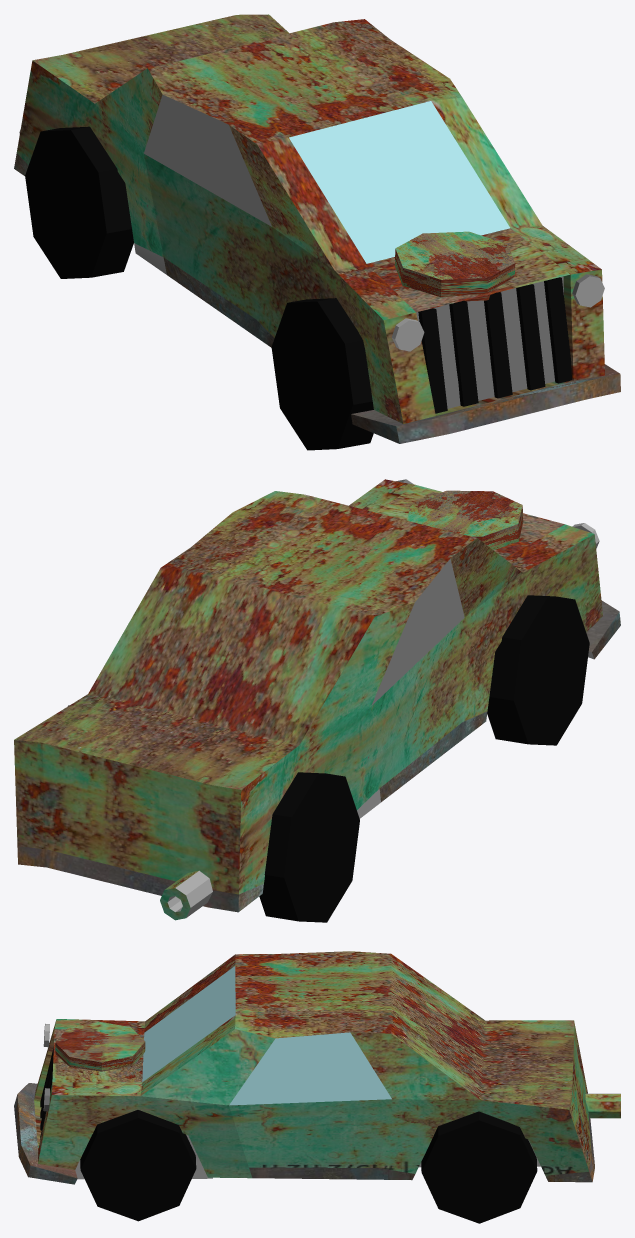
File: Car.fbx
The picture shows the model from 3 angles, top to bottom: view 1: azimuth 30°, elevation 25°; view 2: azimuth 150°, elevation 25°; view 3: azimuth 270°, elevation 25°; orthographic projection. The views are drawn at different scales.
Parts seen in each view (by area): view 1: pCube85; view 2: pCube85; view 3: pCube85.
Boxes of the visible parts, bbox=[...] form: pCube85: bbox=[14, 14, 620, 450]; pCube85: bbox=[14, 479, 620, 922]; pCube85: bbox=[14, 951, 620, 1223].
Bounding box in the file's own units: 18.27 × 16.91 × 48.95.
Materials: 6 (2 with a texture image).
